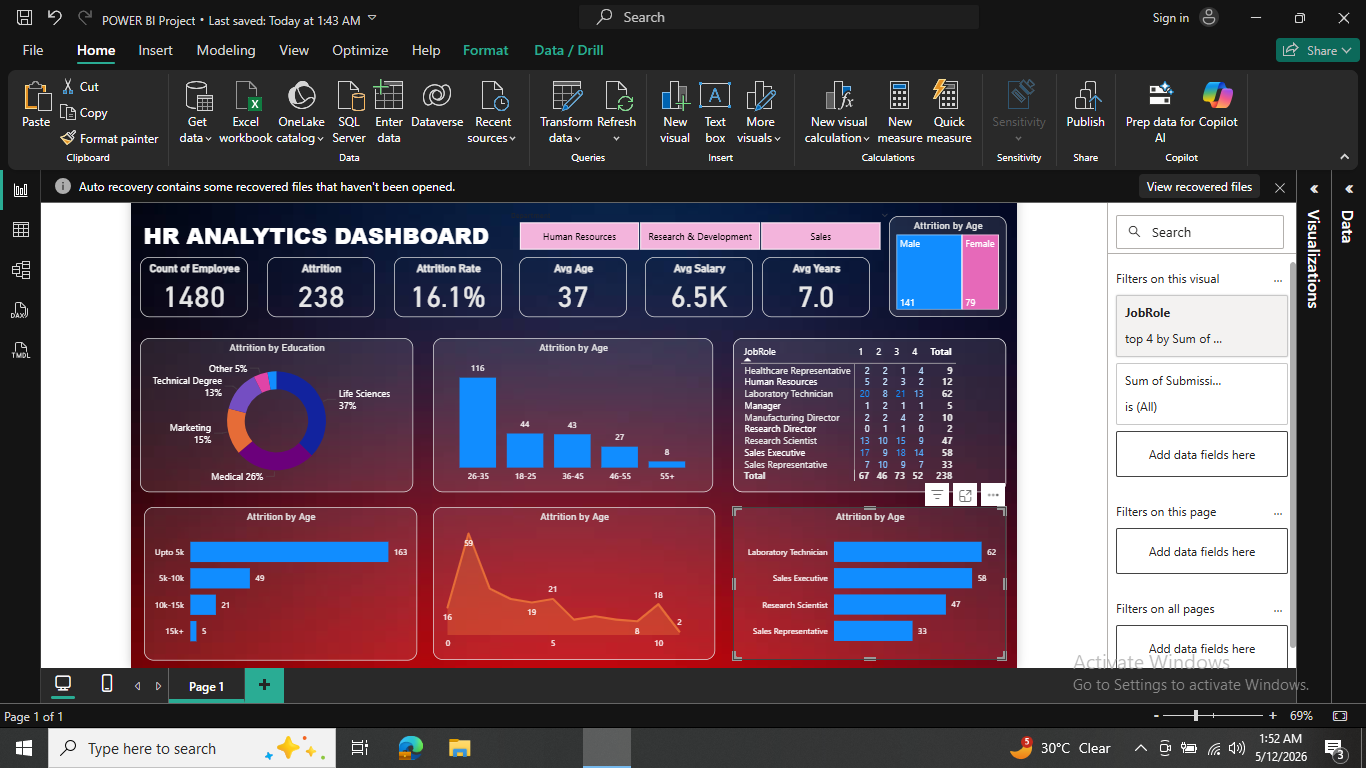

The page's visual inventory and layout, read from the dashboard file:
{"tool":"powerbi","page":{"name":"Page 1","canvas":[1280,720],"ordinal":0},"visuals":[{"type":"card","title":"Count of Employee","fields":{"Values":["CountNonNull(HR_Analytics.EmpID)"]},"box":[13.4,126,156.2,87.3],"z":0},{"type":"card","title":"Attrition","fields":{"Values":["Sum(HR_Analytics.Submission)"]},"box":[196.5,126,156.2,87.3],"z":1000},{"type":"card","title":"Attrition Rate","fields":{"Values":["HR_Analytics.AttritionRate"]},"box":[379.6,126,156.2,87.3],"z":2000},{"type":"card","title":"Avg Age","fields":{"Values":["Avg(HR_Analytics.Age)"]},"box":[561,126,156.2,87.3],"z":3000},{"type":"card","title":"Avg Salary","fields":{"Values":["Avg(HR_Analytics.MonthlyIncome)"]},"box":[742.5,126,156.2,87.3],"z":4000},{"type":"card","title":"Avg Years","fields":{"Values":["Avg(HR_Analytics.YearsAtCompany)"]},"box":[912.1,126,156.2,87.3],"z":5000},{"type":"donutChart","title":"Attrition by Education","fields":{"Category":["HR_Analytics.EducationField"],"Y":["Sum(HR_Analytics.Submission)"]},"box":[13.4,243.6,394.8,223.4],"z":6000},{"type":"columnChart","title":"Attrition by Age","fields":{"Category":["HR_Analytics.AgeGroup"],"Y":["Sum(HR_Analytics.Submission)"]},"box":[436.7,243.6,404.8,223.4],"z":7000},{"type":"pivotTable","fields":{"Rows":["HR_Analytics.JobRole"],"Columns":["HR_Analytics.JobSatisfaction"],"Values":["Sum(HR_Analytics.Submission)"]},"box":[870.1,243.6,394.8,223.4],"z":8000},{"type":"barChart","title":"Attrition by Age","fields":{"Category":["HR_Analytics.SalarySlab"],"Y":["Sum(HR_Analytics.Submission)"]},"box":[18.5,487.1,394.8,221.7],"z":9000},{"type":"barChart","title":"Attrition by Age","fields":{"Category":["HR_Analytics.JobRole"],"Y":["Sum(HR_Analytics.Submission)"]},"box":[870.4,487.2,394.7,221.2],"z":10000},{"type":"areaChart","title":"Attrition by Age","fields":{"Category":["HR_Analytics.YearsAtCompany"],"Y":["Sum(HR_Analytics.Submission)"]},"box":[436.6,487.2,407.7,221.2],"z":11000},{"type":"treemap","title":"Attrition by Age","fields":{"Group":["HR_Analytics.Gender"],"Values":["Sum(HR_Analytics.Submission)"]},"box":[1095.2,67.2,169.7,146.1],"z":12000},{"type":"slicer","fields":{"Values":["HR_Analytics.Department"]},"box":[535.9,55.4,571.1,67.2],"z":13000},{"type":"textbox","box":[13.4,67.2,522.4,55.4],"z":14000}]}

Visuals, with their boxes on the page's 1280x720 design canvas (x1, y1, x2, y2). These are canvas units, not pixel positions in the 1366x768 screenshot, which may show the page scaled, cropped or inside an application window:
"Count of Employee" card: BBox(13, 126, 170, 213)
"Attrition" card: BBox(196, 126, 353, 213)
"Attrition Rate" card: BBox(380, 126, 536, 213)
"Avg Age" card: BBox(561, 126, 717, 213)
"Avg Salary" card: BBox(742, 126, 899, 213)
"Avg Years" card: BBox(912, 126, 1068, 213)
"Attrition by Education" donutChart: BBox(13, 244, 408, 467)
"Attrition by Age" columnChart: BBox(437, 244, 842, 467)
pivotTable - HR_Analytics.JobRole x HR_Analytics.JobSatisfaction: BBox(870, 244, 1265, 467)
"Attrition by Age" barChart: BBox(18, 487, 413, 709)
"Attrition by Age" barChart: BBox(870, 487, 1265, 708)
"Attrition by Age" areaChart: BBox(437, 487, 844, 708)
"Attrition by Age" treemap: BBox(1095, 67, 1265, 213)
slicer - HR_Analytics.Department: BBox(536, 55, 1107, 123)
textbox: BBox(13, 67, 536, 123)
